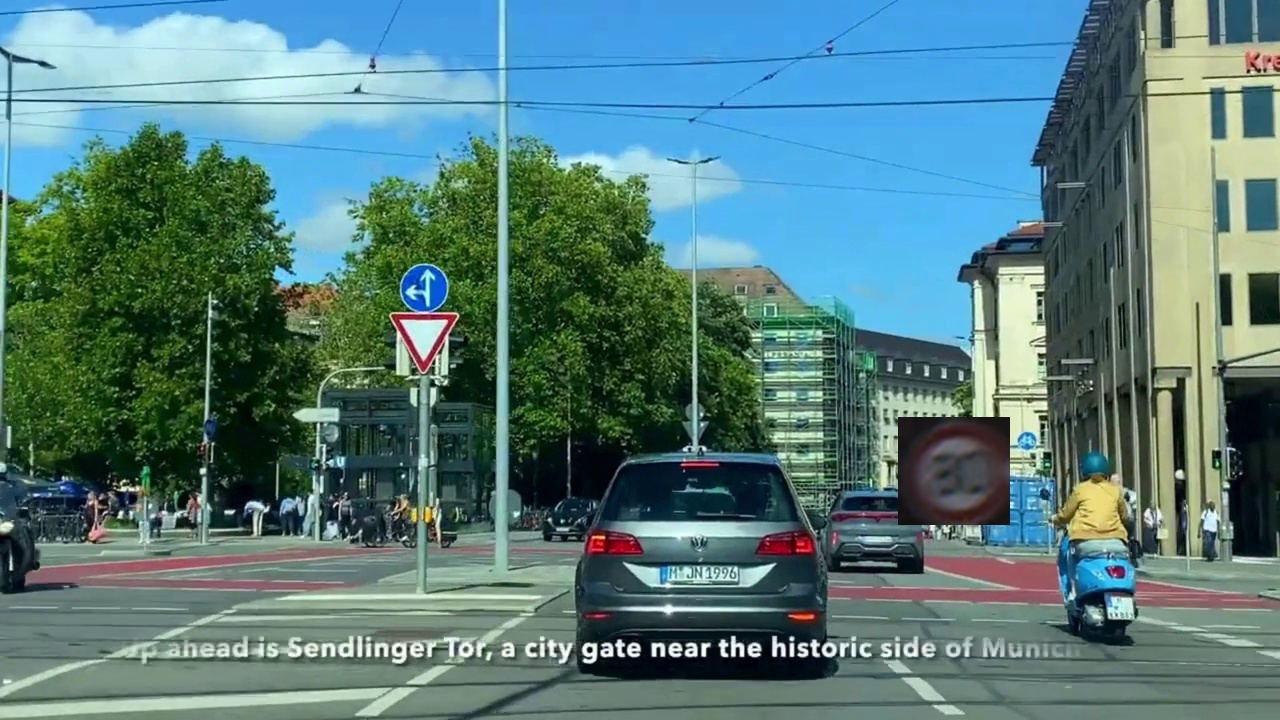Speed 80: (898, 417, 1010, 525)
